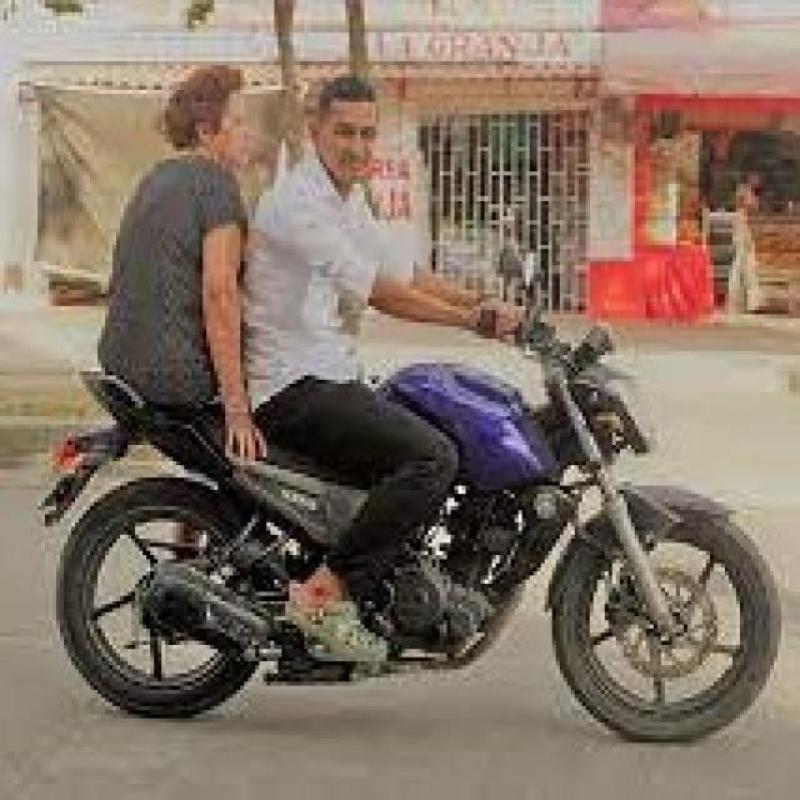nohelmet: (152, 59, 267, 172), (313, 62, 387, 196)
